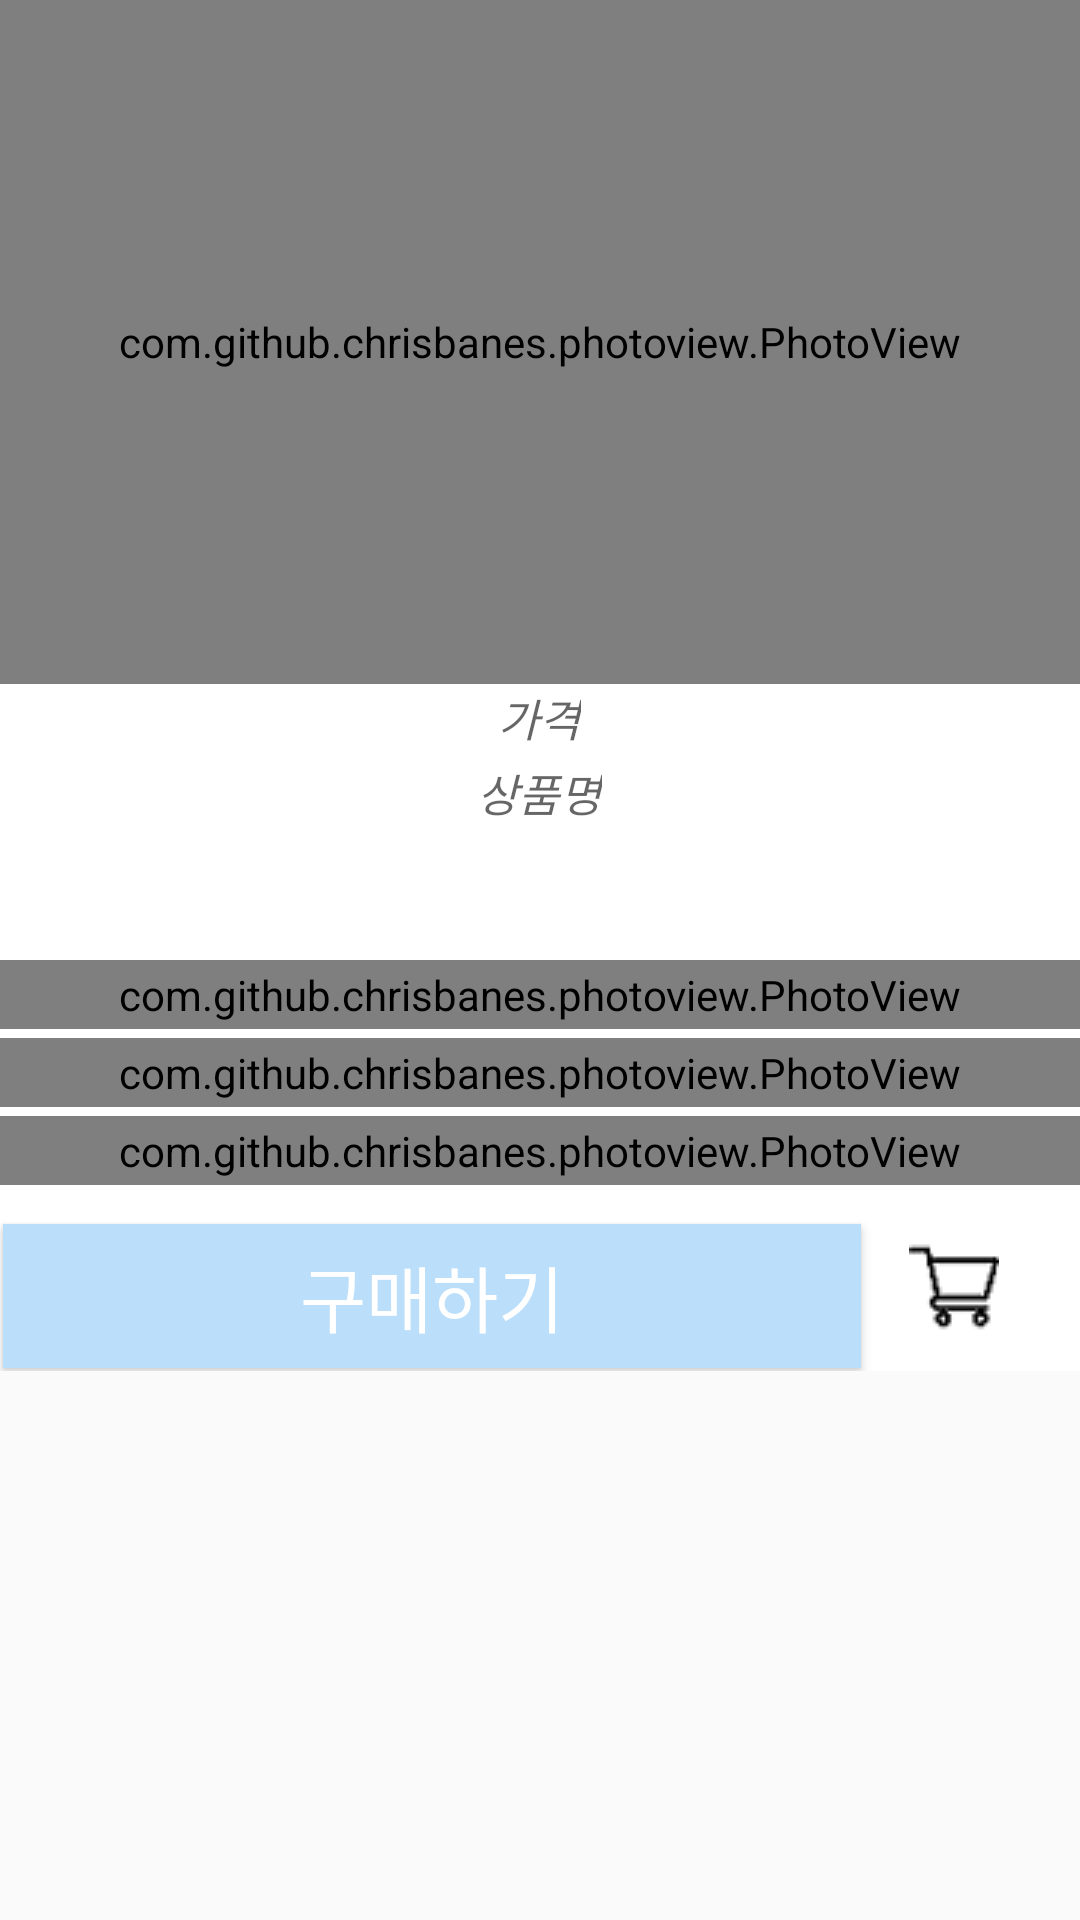

Locate icon controls on the screen. Image size 1080*1920, boxes as detection(x1, y1, x2, y2).
cart: detection(909, 1245, 999, 1329)
